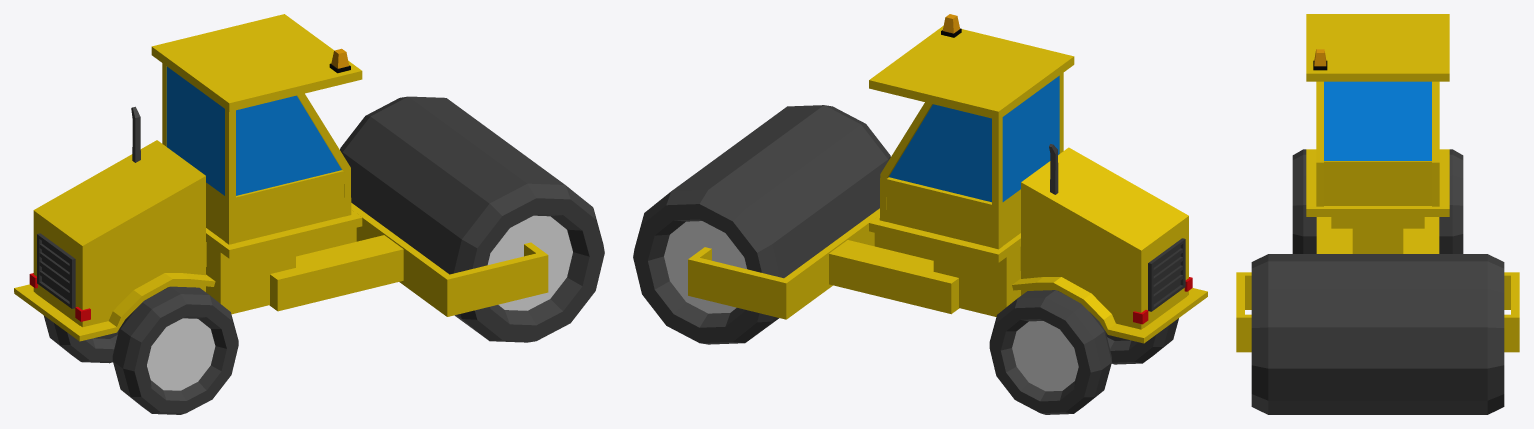
Rendered from Dozer.fbx.
3 renders of one model, left to right at view 1: azimuth 30°, elevation 25°; view 2: azimuth 150°, elevation 25°; view 3: azimuth 270°, elevation 25°, orthographic. The views are drawn at different scales.
Visible parts, largest first — view 1: Cube, Torus.002, Torus.003, Torus.001, Cube.001, Cube.003, Cube.002; view 2: Cube, Torus.002, Torus.003, Torus.001, Cube.001, Cube.003, Cube.002; view 3: Cube, Torus.003, Torus.002, Torus.001, Cube.001, Cube.002.
Boxes of the visible parts, box(x1,y1,x2,y2) form: Cube: box(14, 14, 403, 341); Torus.002: box(340, 96, 604, 342); Torus.003: box(351, 109, 547, 327); Torus.001: box(43, 286, 238, 414); Cube.001: box(414, 242, 548, 316); Cube.003: box(351, 203, 421, 292); Cube.002: box(131, 48, 350, 162); Cube: box(829, 26, 1207, 343); Torus.002: box(633, 105, 890, 344); Torus.003: box(689, 117, 879, 327); Torus.001: box(989, 290, 1178, 414); Cube.001: box(688, 247, 817, 319); Cube.003: box(811, 208, 879, 296); Cube.002: box(941, 14, 1058, 194); Cube: box(1306, 14, 1449, 253); Torus.003: box(1300, 254, 1455, 414); Torus.002: box(1251, 254, 1504, 414); Torus.001: box(1292, 149, 1463, 253); Cube.001: box(1236, 272, 1519, 352); Cube.002: box(1313, 49, 1327, 70).
Size of the model in its own units: 1075 by 653 by 576.
